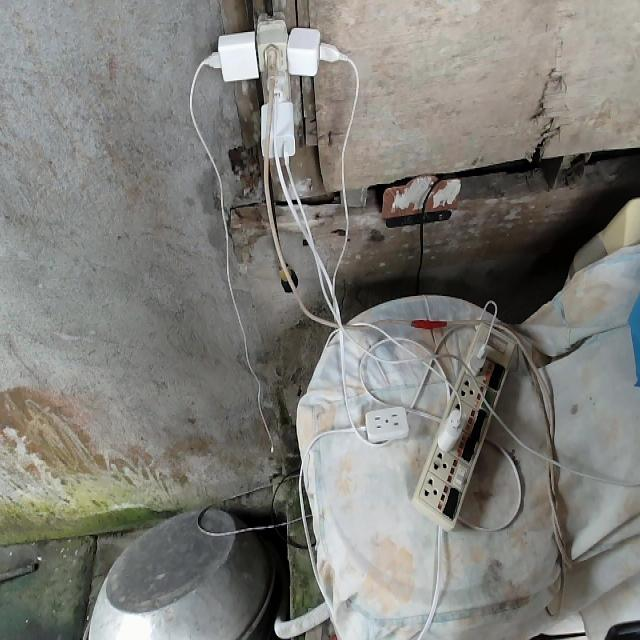-: (188, 11, 356, 162)
